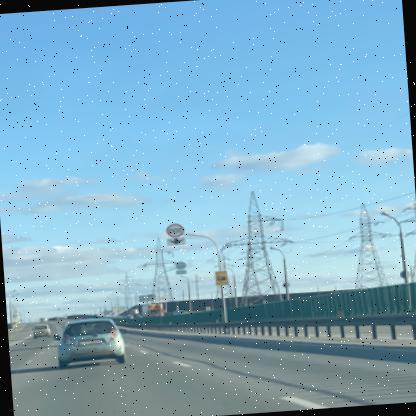speedlimit: (168, 221, 187, 236)
